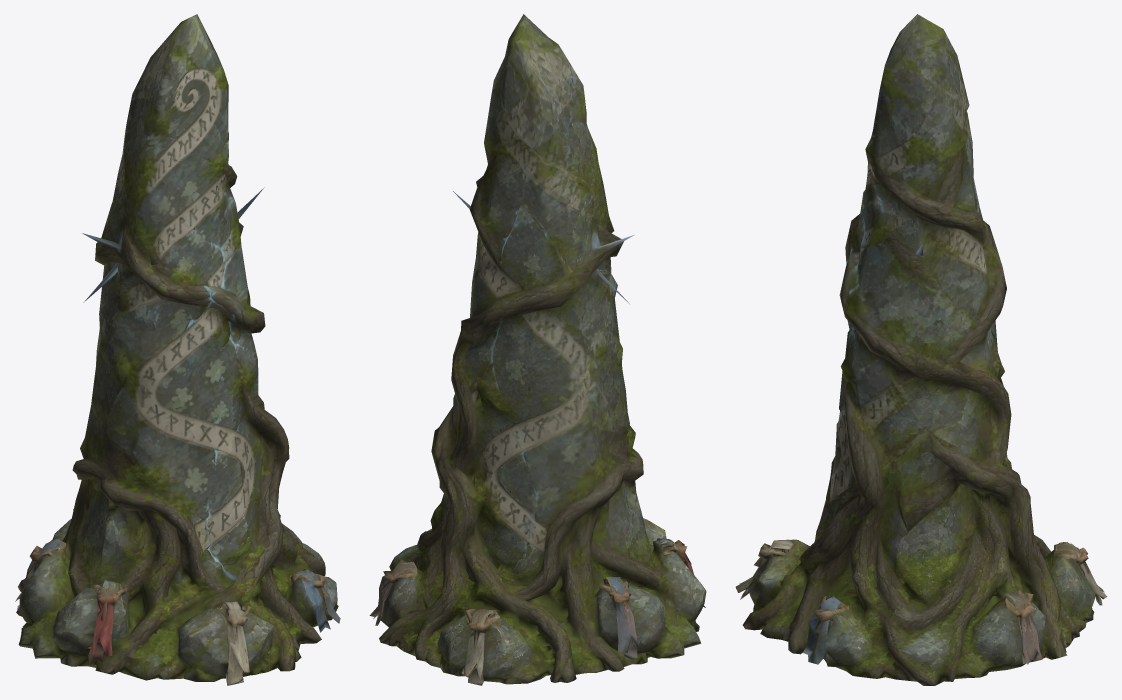
File: soporte-petreo.glb
The picture shows the model from 3 angles, left to right: view 1: azimuth 30°, elevation 25°; view 2: azimuth 150°, elevation 25°; view 3: azimuth 270°, elevation 25°; orthographic projection. The views are drawn at different scales.
Visible parts, largest first — view 1: tripo_node_431c5039-5f52-4475-a6a1-9d3de55953e0; view 2: tripo_node_431c5039-5f52-4475-a6a1-9d3de55953e0; view 3: tripo_node_431c5039-5f52-4475-a6a1-9d3de55953e0.
Boxes of the visible parts, x1,y1,x2,y2 form: tripo_node_431c5039-5f52-4475-a6a1-9d3de55953e0: (15, 14, 340, 685); tripo_node_431c5039-5f52-4475-a6a1-9d3de55953e0: (369, 14, 706, 685); tripo_node_431c5039-5f52-4475-a6a1-9d3de55953e0: (735, 14, 1107, 685).
Bounding box in the file's own units: 0.5153 × 0.9832 × 0.5445.
Materials: 1 (1 with a texture image).
